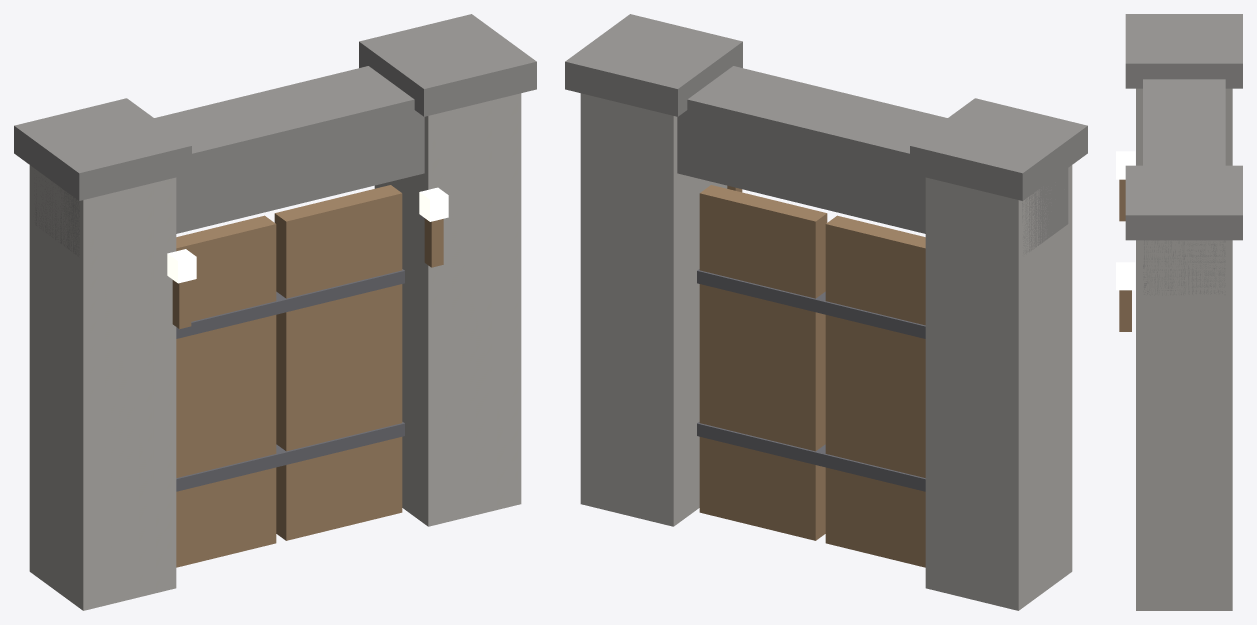
File: Gate.fbx
3 views of the same model, side by side, from view 1: azimuth 30°, elevation 25°; view 2: azimuth 150°, elevation 25°; view 3: azimuth 270°, elevation 25° (orthographic). The views are drawn at different scales.
Parts seen in each view (by area): view 1: Gate; view 2: Gate; view 3: Gate.
Part boxes in pixels (bbox=[...]): Gate: bbox=[14, 14, 536, 610]; Gate: bbox=[565, 14, 1087, 610]; Gate: bbox=[1116, 14, 1242, 610].
Bounding box in the file's own units: 6.9 × 6.4 × 1.84.
